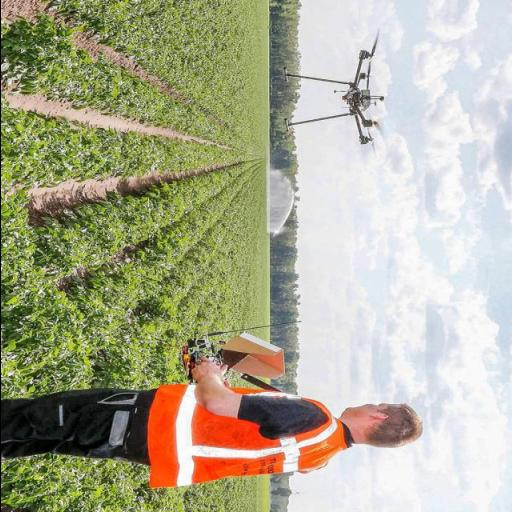uav: (286, 26, 396, 164)
